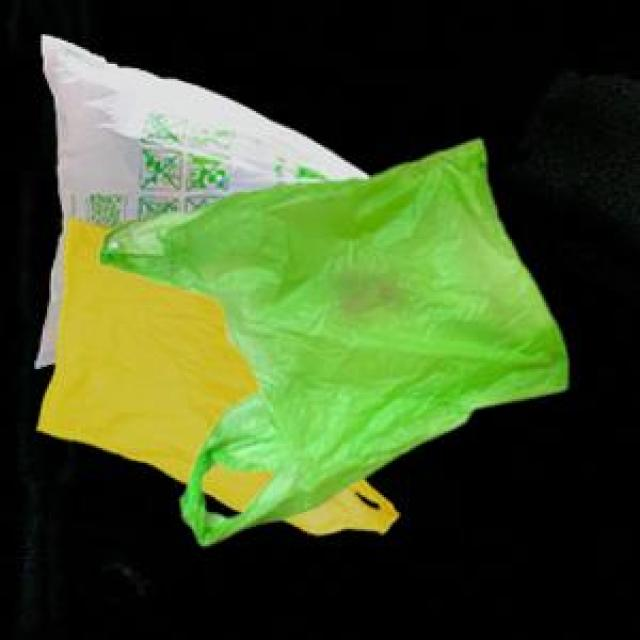plastic: (32, 31, 578, 568)
